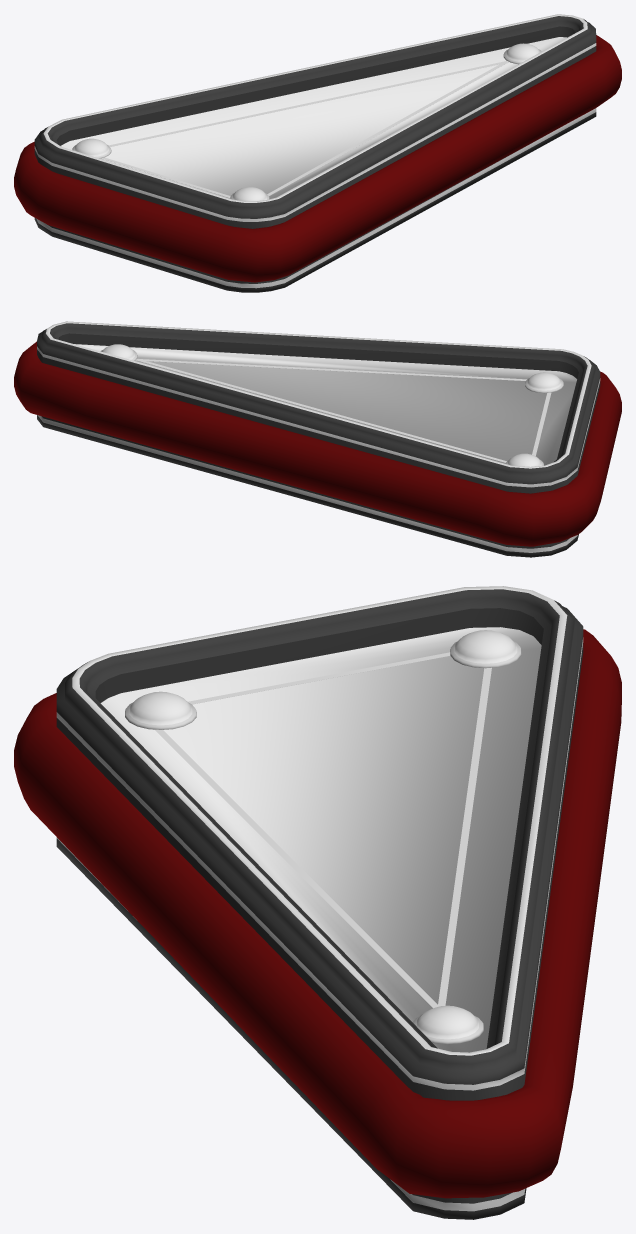
Rendered from BumperTriangulaire.fbx.
3 renders of one model, top to bottom at view 1: azimuth 30°, elevation 25°; view 2: azimuth 150°, elevation 25°; view 3: azimuth 270°, elevation 25°, orthographic. The views are drawn at different scales.
Visible parts, largest first — view 1: Box001, Cylinder004, Cube, Cylinder002; view 2: Box001, Cylinder004, Cube, Cylinder002; view 3: Box001, Cylinder004, Cube, Cylinder002.
Part boxes in pixels (<box>): Box001: <box>34,14,596,292</box>; Cylinder004: <box>14,35,621,282</box>; Cube: <box>101,60,509,197</box>; Cylinder002: <box>72,43,541,201</box>; Box001: <box>37,321,600,557</box>; Cylinder004: <box>14,341,621,546</box>; Cube: <box>135,358,551,462</box>; Cylinder002: <box>100,344,563,466</box>; Box001: <box>56,586,583,1219</box>; Cylinder004: <box>14,629,621,1198</box>; Cube: <box>155,652,491,1008</box>; Cylinder002: <box>125,630,521,1044</box>.
Size of the model in its own units: 2052 by 291 by 1021.
